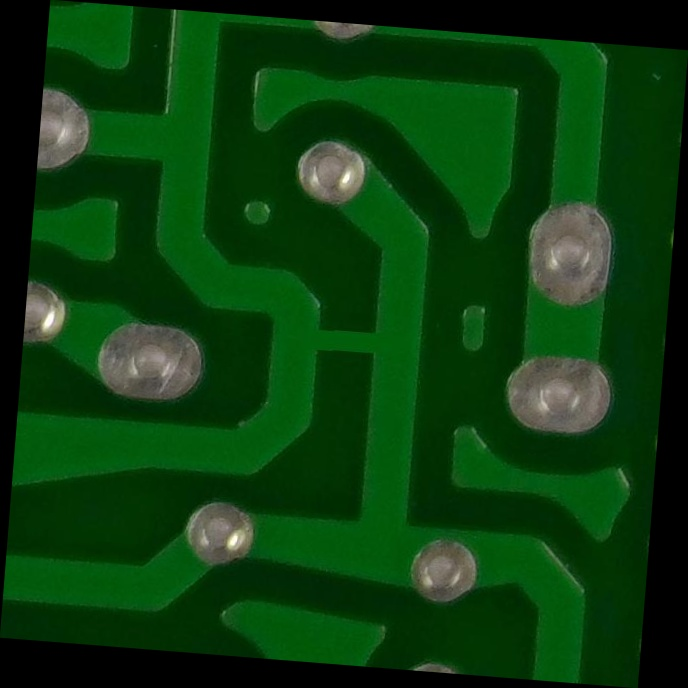short: (254, 281, 435, 408)
